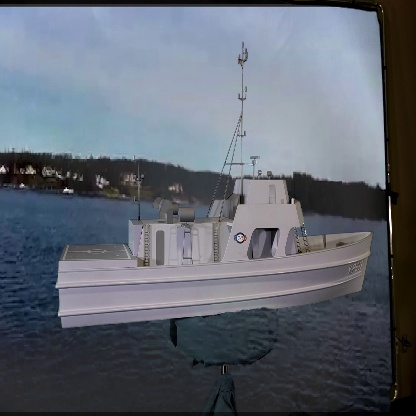YP689: (56, 41, 376, 331)
